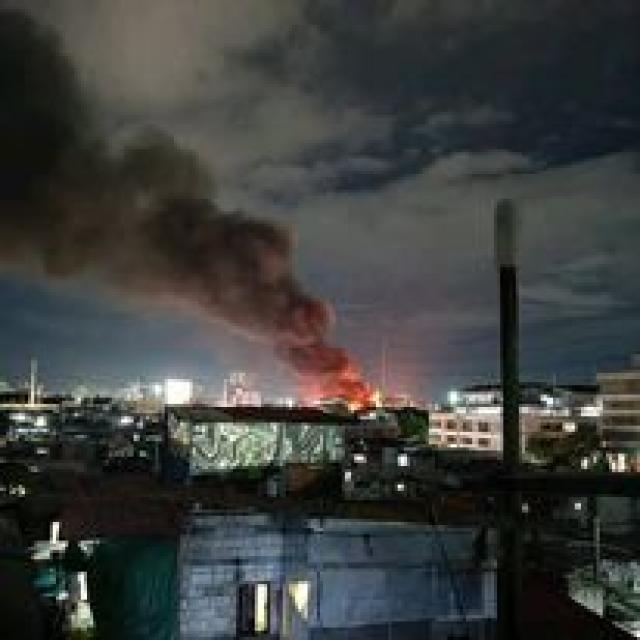Fire: (312, 364, 377, 410)
Smoke: (116, 176, 344, 379), (0, 25, 120, 280)
